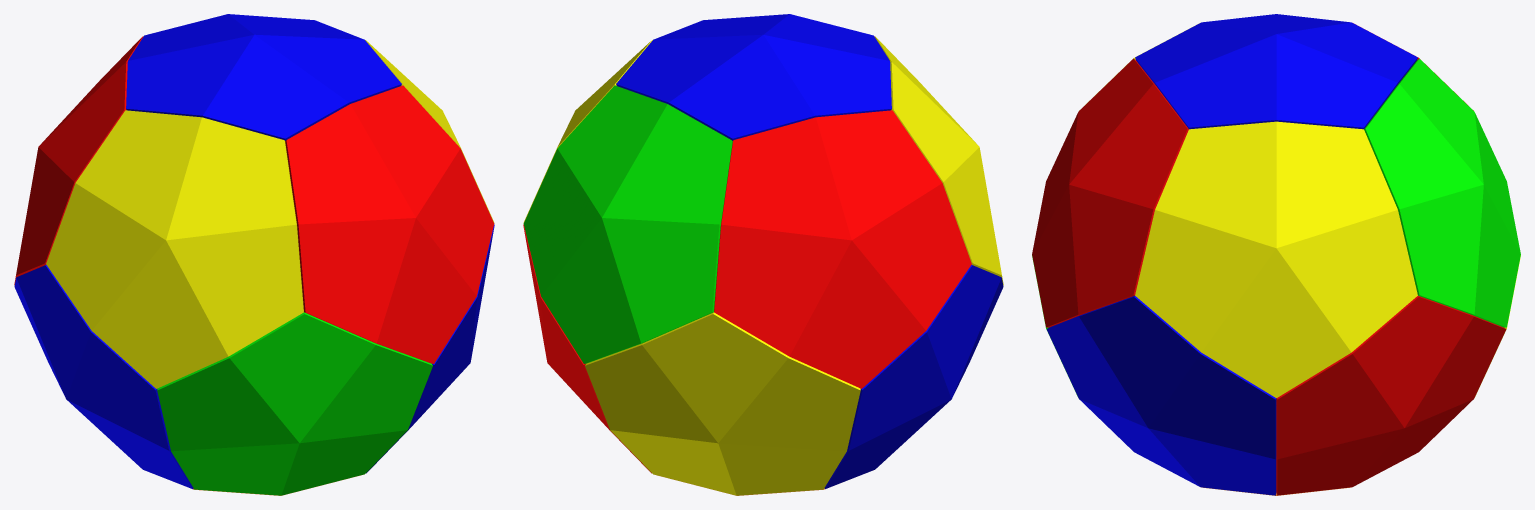
The model's file is Sided_Ball_colored.fbx.
3 renders of one model, left to right at view 1: azimuth 30°, elevation 25°; view 2: azimuth 150°, elevation 25°; view 3: azimuth 270°, elevation 25°, orthographic.
Parts seen in each view (by area): view 1: Icosphere.001, Icosphere.002, Icosphere.007, Icosphere.005, Icosphere.006, Icosphere.010, Icosphere.008, Icosphere.003; view 2: Icosphere.010, Icosphere.004, Icosphere.011, Icosphere.005, Icosphere.006, Icosphere.001, Icosphere.009, Icosphere.003; view 3: Icosphere.003, Icosphere.008, Icosphere.009, Icosphere.002, Icosphere.004, Icosphere.005.
Boxes of the visible parts, x1=… form: Icosphere.001: x1=46, y1=110, x2=303, y2=388; Icosphere.002: x1=285, y1=85, x2=494, y2=363; Icosphere.007: x1=157, y1=312, x2=432, y2=495; Icosphere.005: x1=126, y1=14, x2=401, y2=140; Icosphere.006: x1=14, y1=265, x2=193, y2=488; Icosphere.010: x1=14, y1=36, x2=142, y2=284; Icosphere.008: x1=366, y1=224, x2=494, y2=473; Icosphere.003: x1=365, y1=40, x2=494, y2=223; Icosphere.010: x1=714, y1=110, x2=971, y2=388; Icosphere.004: x1=523, y1=85, x2=732, y2=363; Icosphere.011: x1=585, y1=312, x2=860, y2=495; Icosphere.005: x1=616, y1=14, x2=891, y2=140; Icosphere.006: x1=824, y1=265, x2=1003, y2=488; Icosphere.001: x1=875, y1=36, x2=1003, y2=284; Icosphere.009: x1=523, y1=224, x2=651, y2=473; Icosphere.003: x1=523, y1=40, x2=652, y2=223; Icosphere.003: x1=1135, y1=121, x2=1417, y2=397; Icosphere.008: x1=1047, y1=296, x2=1276, y2=495; Icosphere.009: x1=1276, y1=296, x2=1505, y2=495; Icosphere.002: x1=1032, y1=58, x2=1188, y2=327; Icosphere.004: x1=1364, y1=58, x2=1520, y2=327; Icosphere.005: x1=1135, y1=14, x2=1417, y2=129.
Size of the model in its own units: 150 by 150 by 151.
